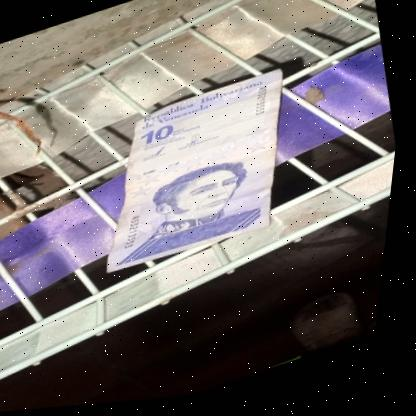ten-front-vef: (77, 69, 322, 284)
